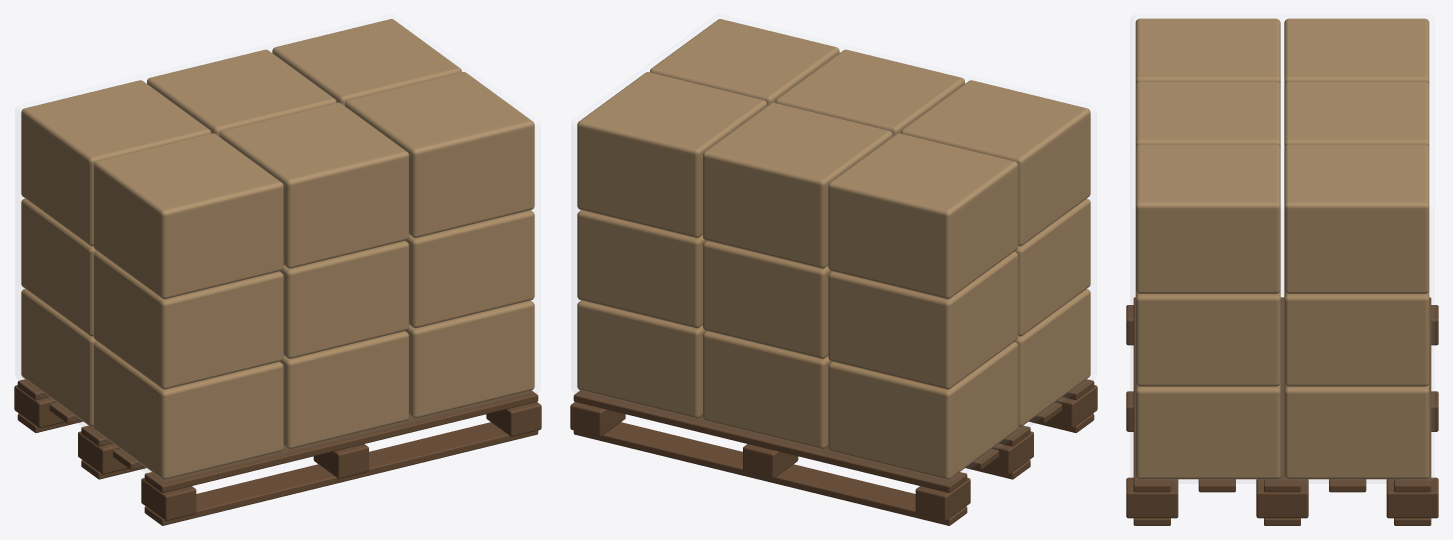
File: palletLoad.glb
3 views of the same model, side by side, from view 1: azimuth 30°, elevation 25°; view 2: azimuth 150°, elevation 25°; view 3: azimuth 270°, elevation 25° (orthographic). The views are drawn at different scales.
Parts seen in each view (by area): view 1: load, pallet; view 2: load, pallet; view 3: load, pallet.
Boxes of the visible parts, x1,y1,x2,y2 form: load: (21, 19, 534, 479); pallet: (14, 379, 541, 525); load: (577, 19, 1090, 479); pallet: (570, 379, 1097, 525); load: (1135, 18, 1429, 479); pallet: (1126, 297, 1438, 525).
Size of the model in its own units: 1.22 by 0.963 by 0.84.
